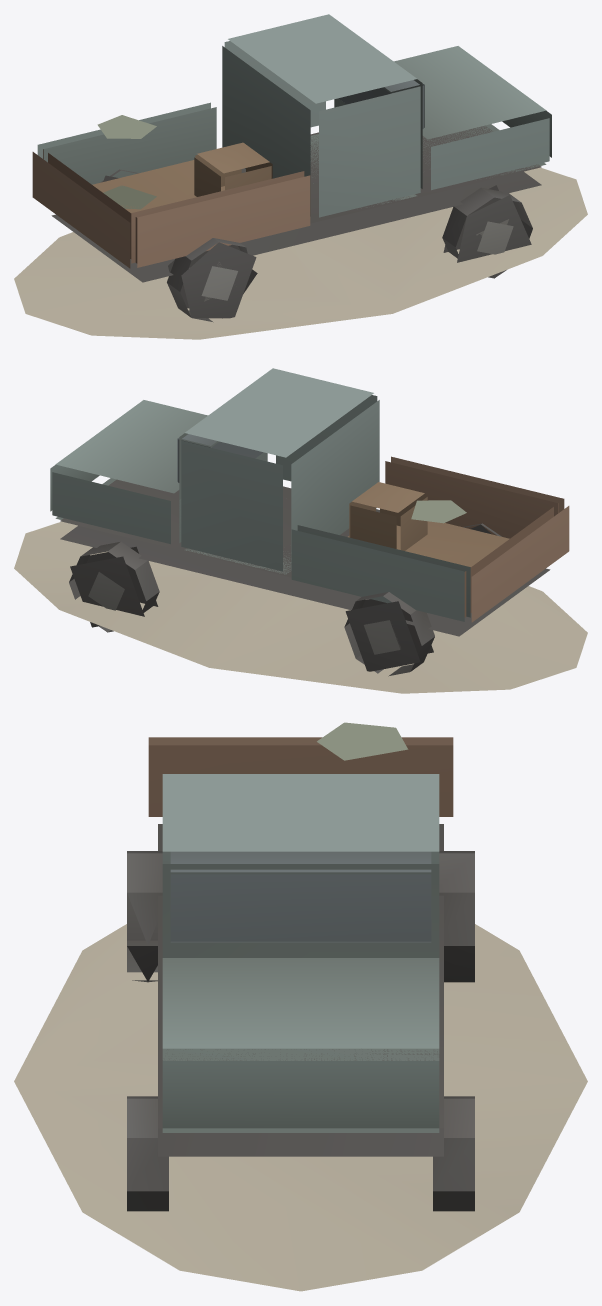
File: truck_wreck.lod.glb
The picture shows the model from 3 angles, top to bottom: view 1: azimuth 30°, elevation 25°; view 2: azimuth 150°, elevation 25°; view 3: azimuth 270°, elevation 25°; orthographic projection. The views are drawn at different scales.
Parts seen in each view (by area): view 1: truck_wreck; view 2: truck_wreck; view 3: truck_wreck.
Part boxes in pixels (<box>): truck_wreck: <box>14,14,587,339</box>; truck_wreck: <box>14,368,587,693</box>; truck_wreck: <box>14,722,587,1291</box>.
Bounding box in the file's own units: 6.4 × 2.3 × 3.7.
